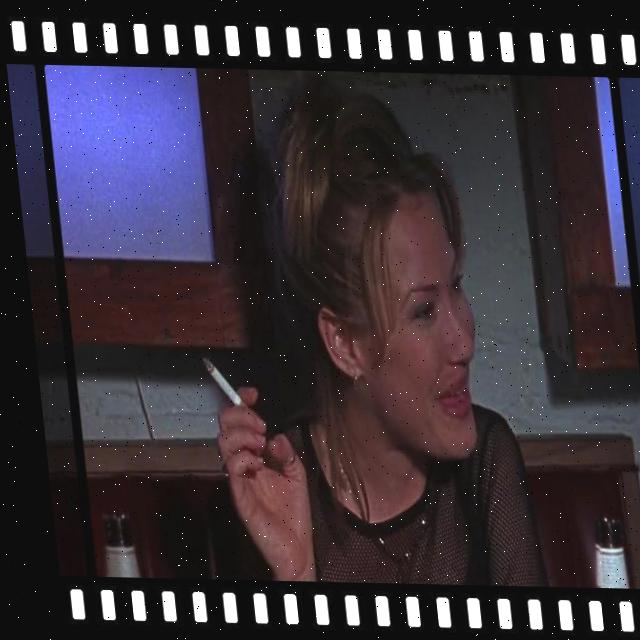cigarette: (192, 357, 240, 409)
